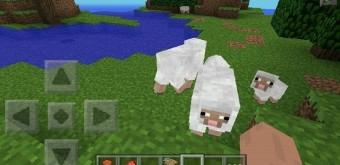sheep: (188, 66, 241, 138), (153, 37, 207, 95)
